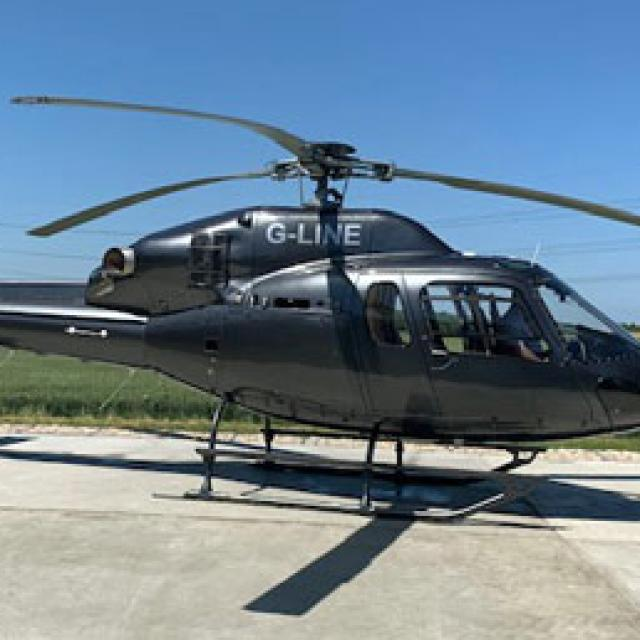helicopter: (1, 66, 640, 552)
